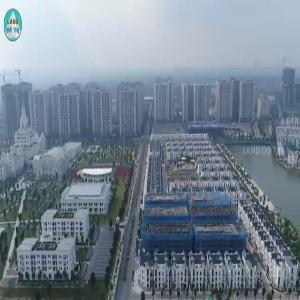drone: (167, 138, 214, 185)
